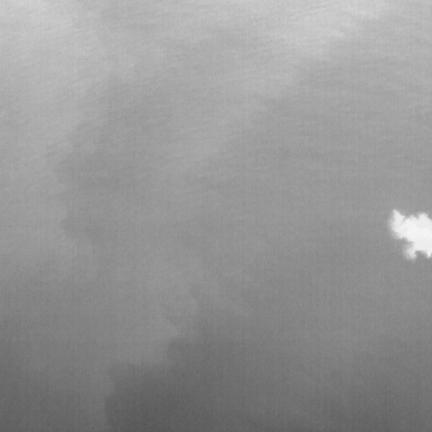flukeprints: (389, 209, 431, 260)
